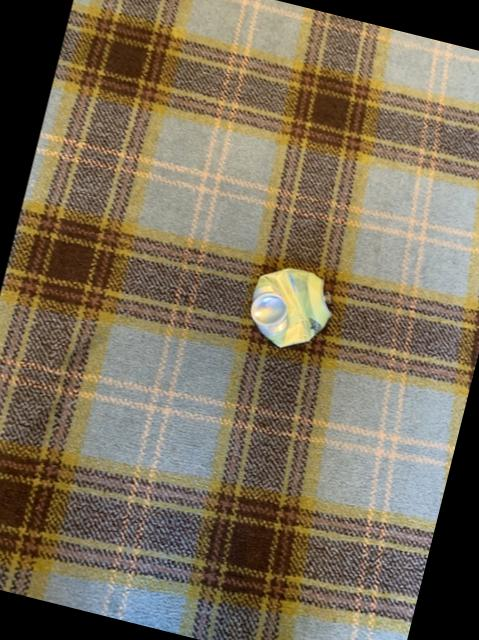metal: (249, 269, 329, 347)
